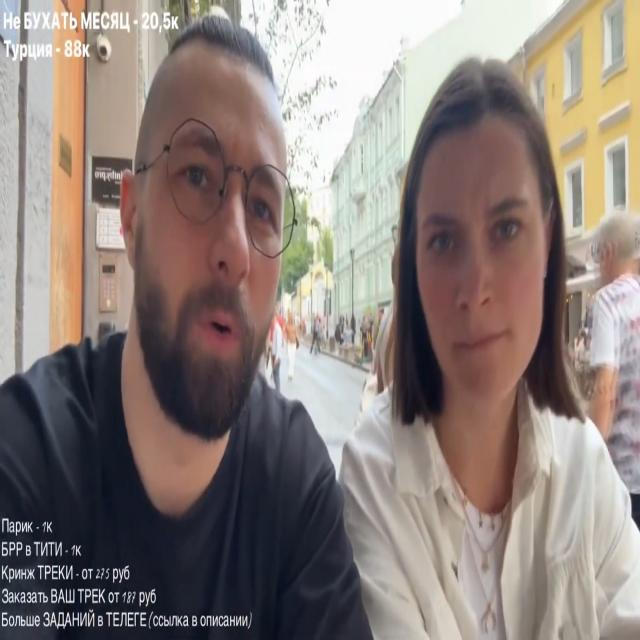Person: (0, 10, 410, 640), (295, 43, 640, 639)
